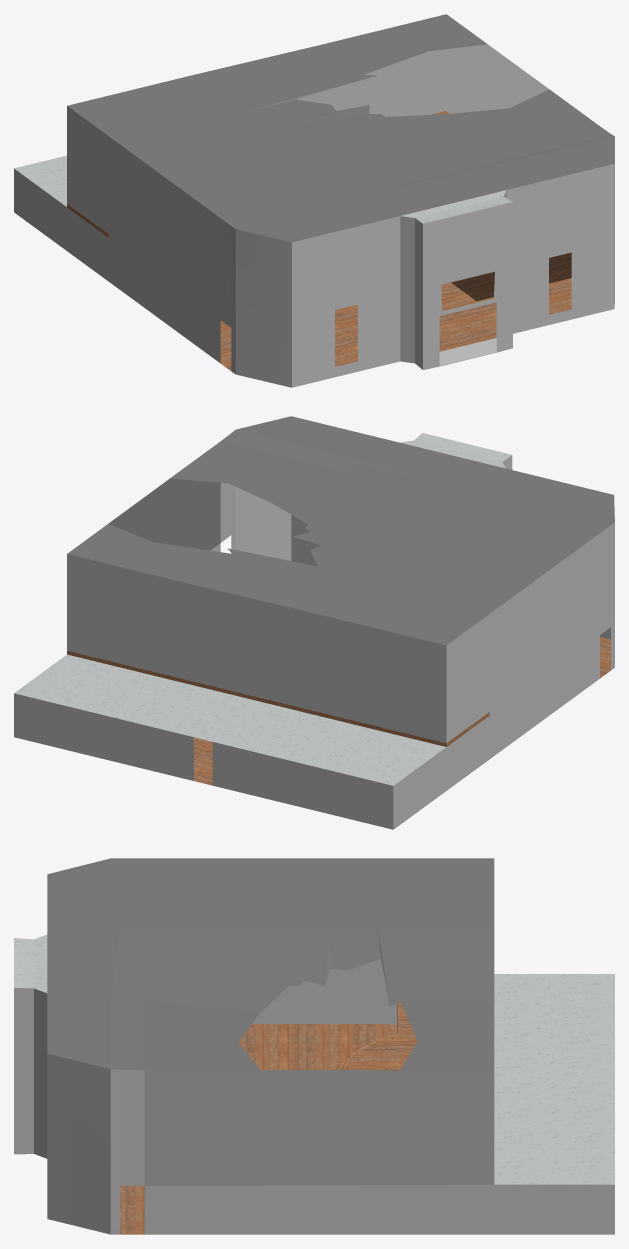
Rendered from hall_roto.FBX.
The picture shows the model from 3 angles, top to bottom: view 1: azimuth 30°, elevation 25°; view 2: azimuth 150°, elevation 25°; view 3: azimuth 270°, elevation 25°; orthographic projection. The views are drawn at different scales.
Parts seen in each view (by area): view 1: Hall; view 2: Hall; view 3: Hall.
Part boxes in pixels (x1,y1,x2,y2): Hall: (14,14,614,387); Hall: (14,416,614,829); Hall: (14,858,614,1234).
Size of the model in its own units: 4269 by 5142 by 1577.
